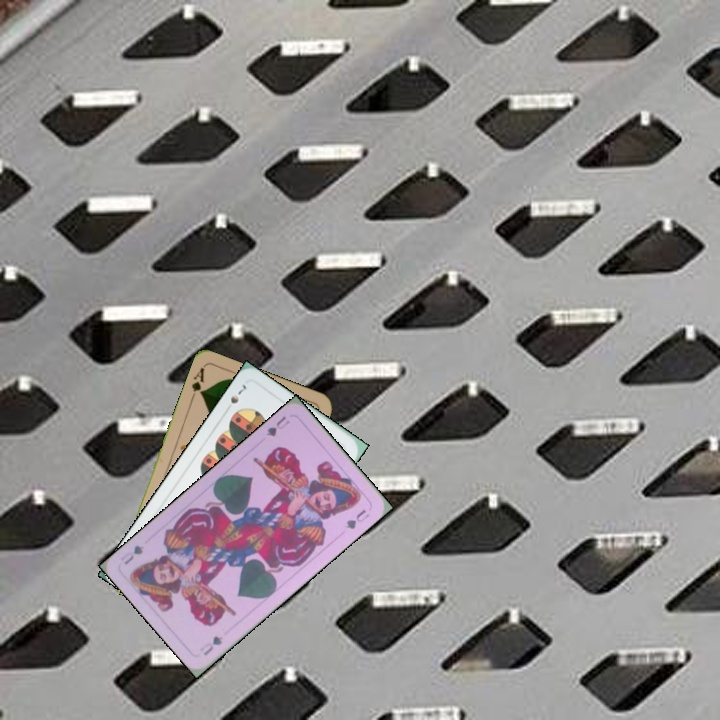GA: (187, 364, 207, 403)
GU: (262, 412, 292, 439), (196, 632, 226, 658)
S7: (226, 380, 249, 406)
